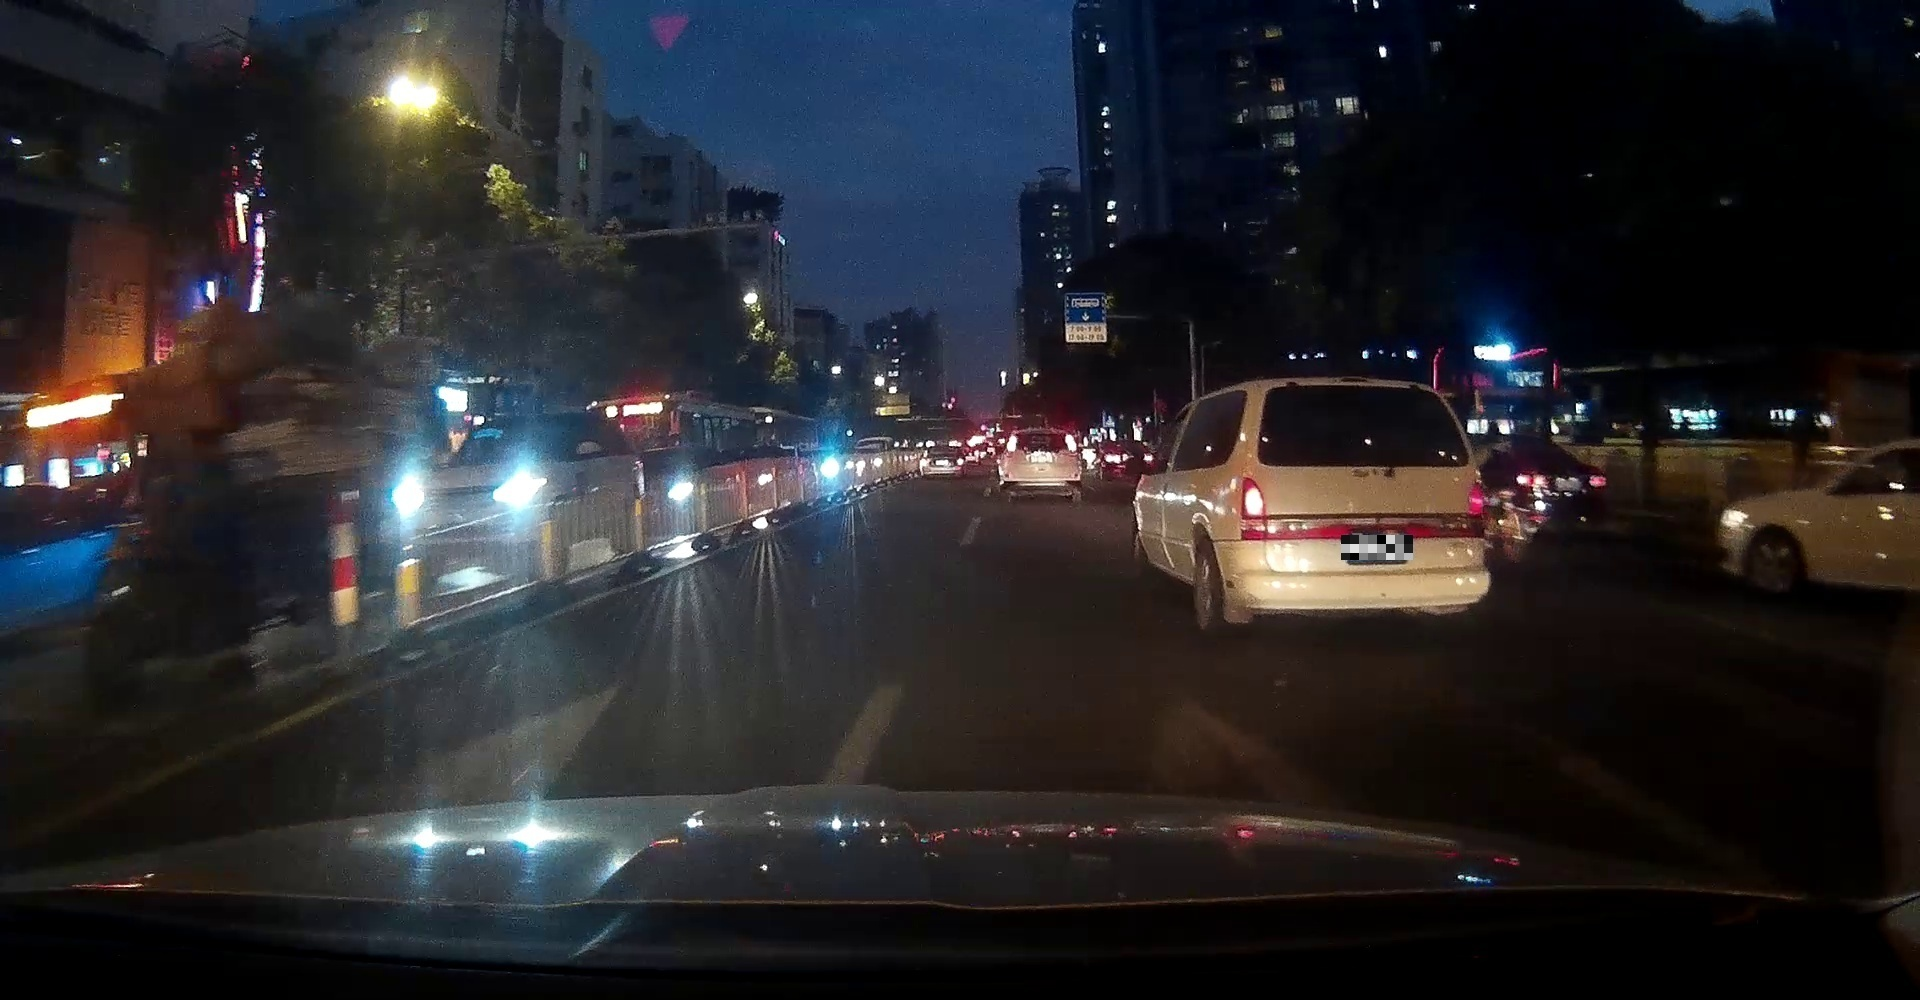L_light: (1241, 477, 1266, 539), (1004, 437, 1017, 458)
R_light: (1467, 480, 1484, 537), (1065, 434, 1078, 456)
T_light: (1343, 385, 1371, 393), (1036, 431, 1049, 437)
night-left: (1239, 376, 1490, 631)
night-no: (1004, 428, 1083, 503)
plate_1: (1341, 536, 1413, 560)
